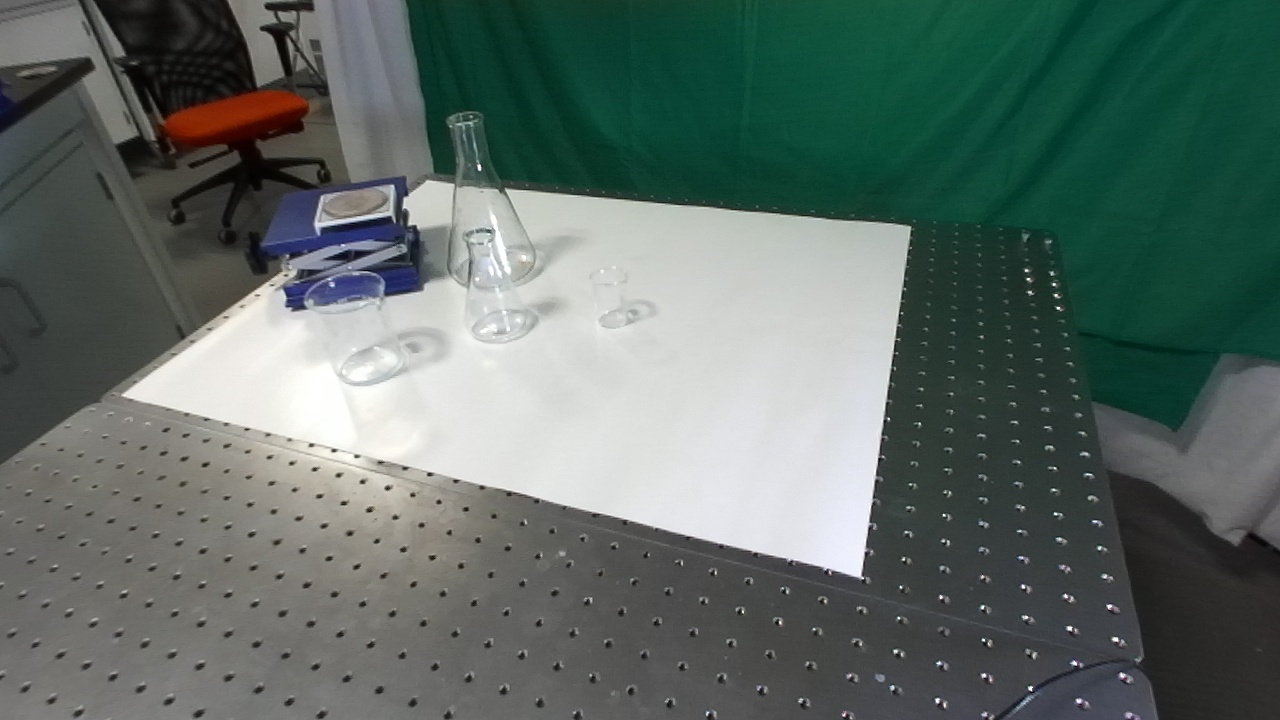glass: (441, 107, 540, 291), (302, 269, 409, 390), (458, 225, 531, 349), (587, 264, 634, 333)
plate: (309, 184, 403, 237)
